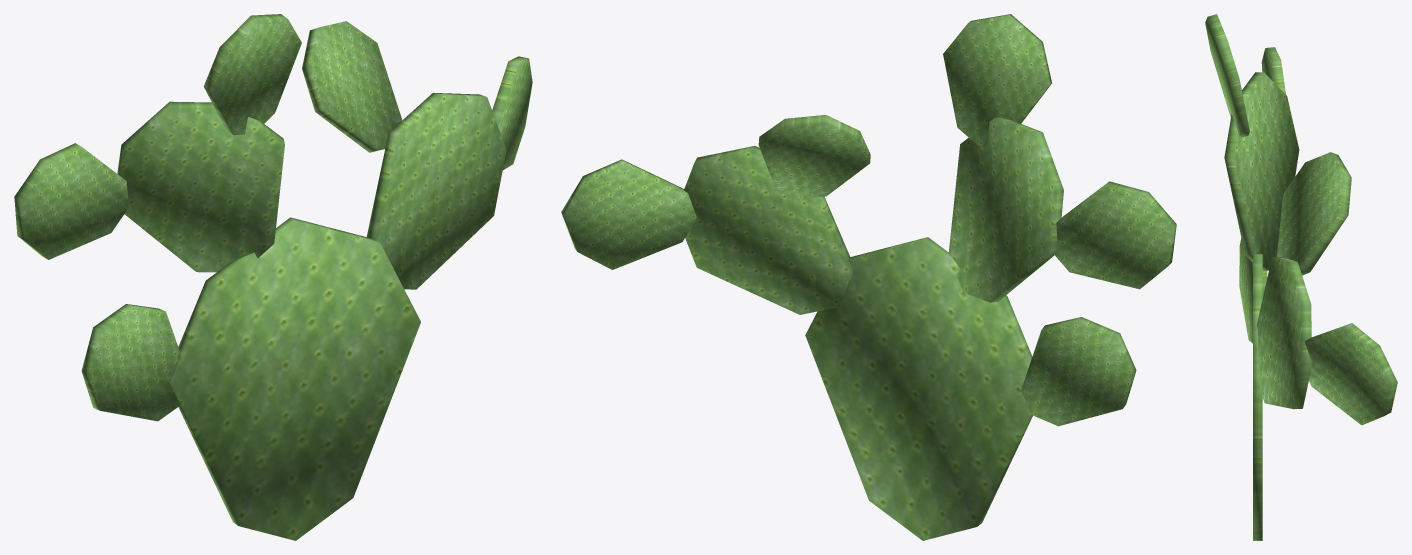
The model's file is des_cactusA.fbx.
3 views of the same model, side by side, from view 1: azimuth 30°, elevation 25°; view 2: azimuth 150°, elevation 25°; view 3: azimuth 270°, elevation 25° (orthographic). The views are drawn at different scales.
Parts seen in each view (by area): view 1: cactus2; view 2: cactus2; view 3: cactus2.
Part boxes in pixels (x1,y1,x2,y2): cactus2: (14, 14, 532, 540); cactus2: (561, 14, 1176, 540); cactus2: (1205, 14, 1397, 540).
Size of the model in its own units: 198 by 180 by 63.15.
Materials: 1 (1 with a texture image).
